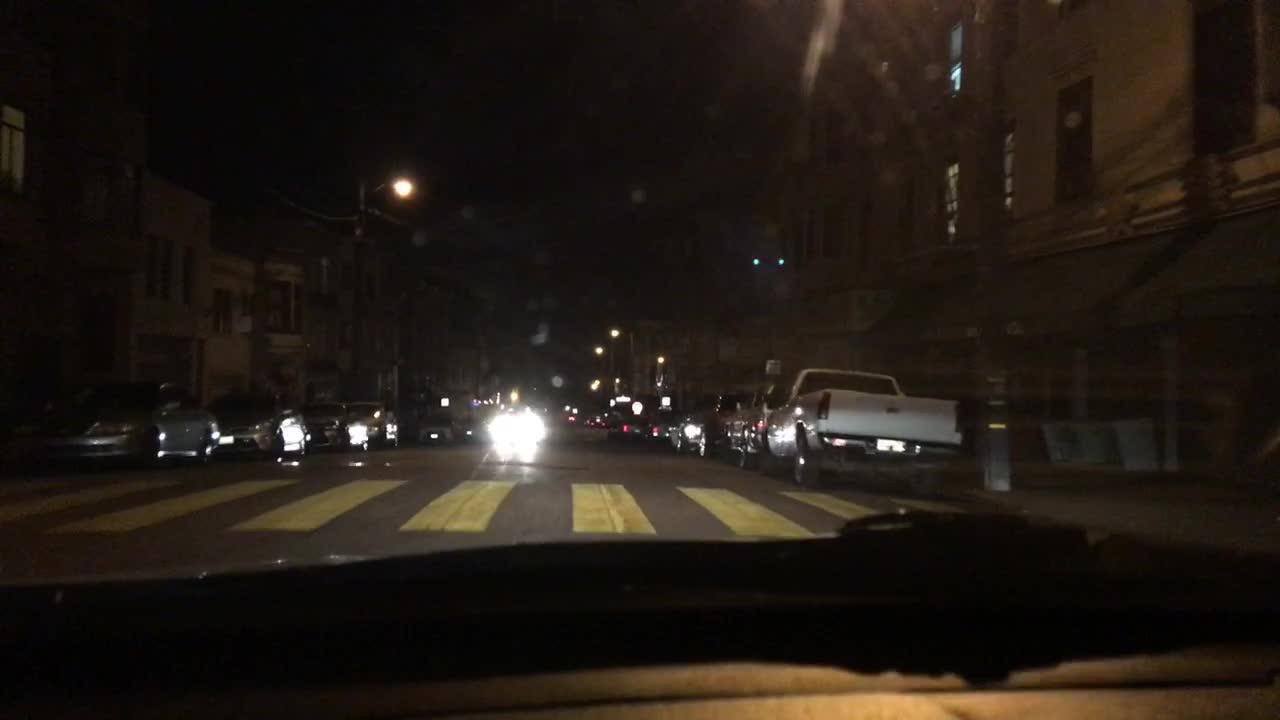car: (31, 372, 192, 464), (726, 381, 792, 467), (218, 404, 323, 455), (667, 390, 742, 458), (153, 410, 220, 461), (342, 400, 400, 447), (496, 404, 539, 447), (307, 404, 349, 442), (602, 405, 642, 437), (642, 405, 677, 437), (417, 416, 454, 444), (464, 419, 496, 444), (583, 414, 605, 430), (562, 414, 576, 425)
truck: (753, 365, 965, 493)
